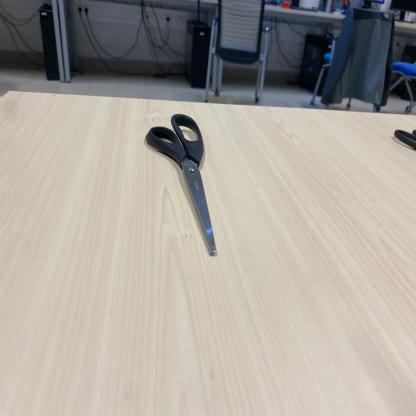scissors: (146, 114, 220, 255), (394, 126, 416, 156)
